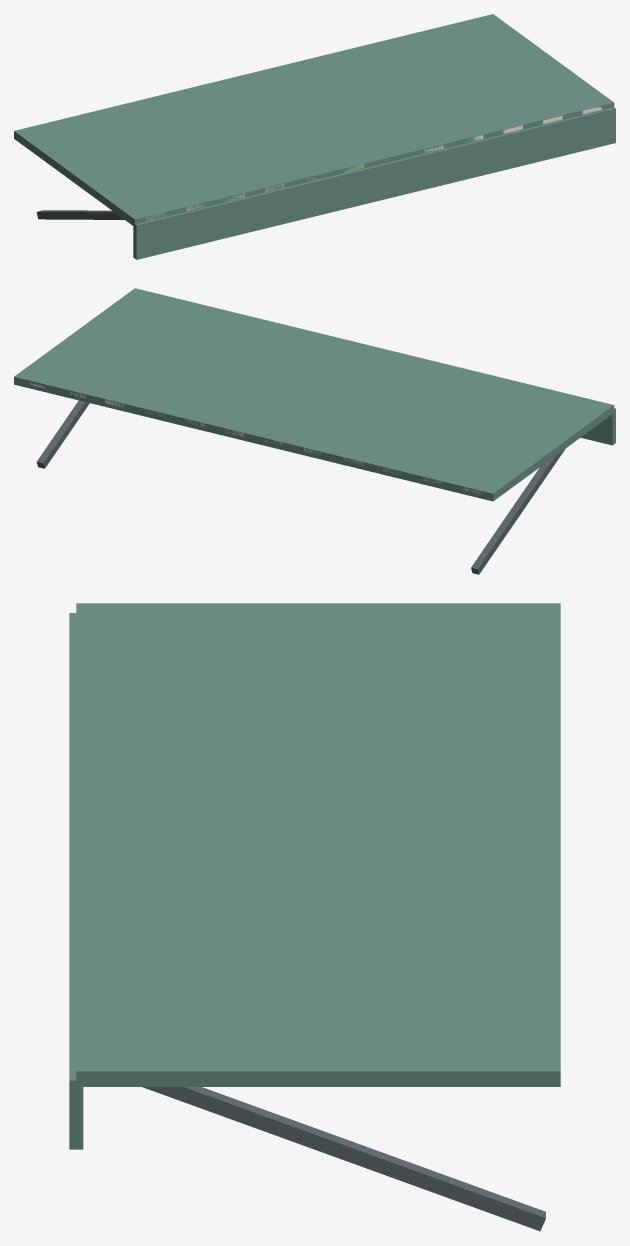
The picture shows the model from 3 angles, top to bottom: view 1: azimuth 30°, elevation 25°; view 2: azimuth 150°, elevation 25°; view 3: azimuth 270°, elevation 25°; orthographic projection. The views are drawn at different scales.
Parts seen in each view (by area): view 1: QH-A0060_V01_geometry; view 2: QH-A0060_V01_geometry; view 3: QH-A0060_V01_geometry.
Boxes of the visible parts, x1=… form: QH-A0060_V01_geometry: x1=14, y1=14, x2=615, y2=259; QH-A0060_V01_geometry: x1=14, y1=288, x2=615, y2=574; QH-A0060_V01_geometry: x1=69, y1=603, x2=560, y2=1231.
Bounding box in the file's own units: 3.2 × 0.5709 × 1.42.
